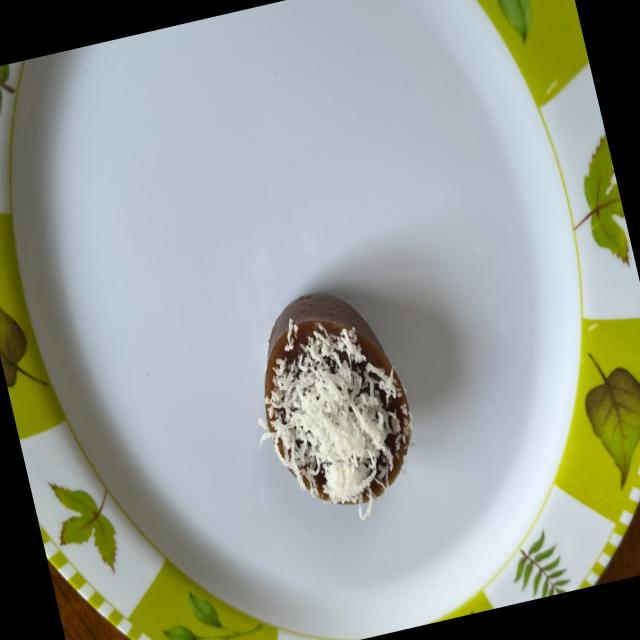Kuih lompang: (264, 292, 412, 516)
